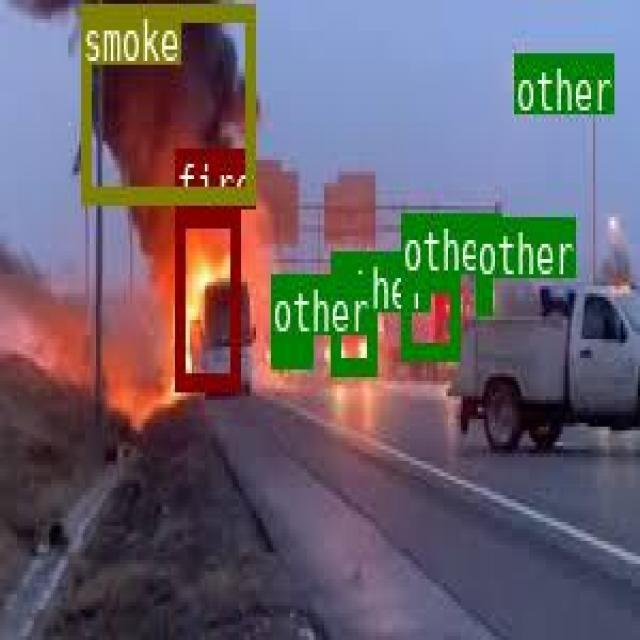fire: (174, 206, 238, 388)
smoke: (80, 2, 253, 200)
